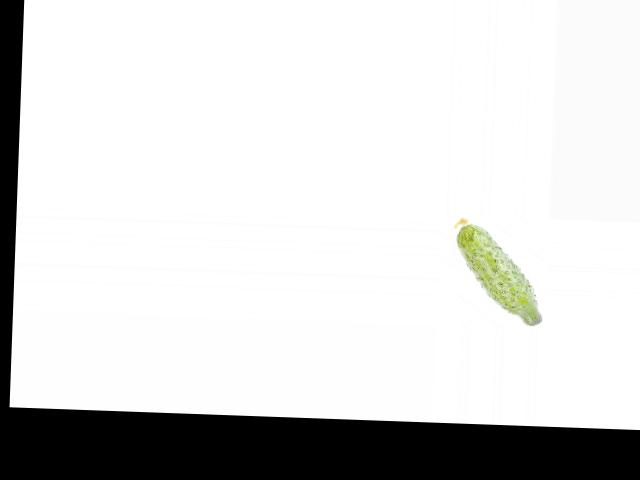cucumber: (451, 217, 546, 325)
